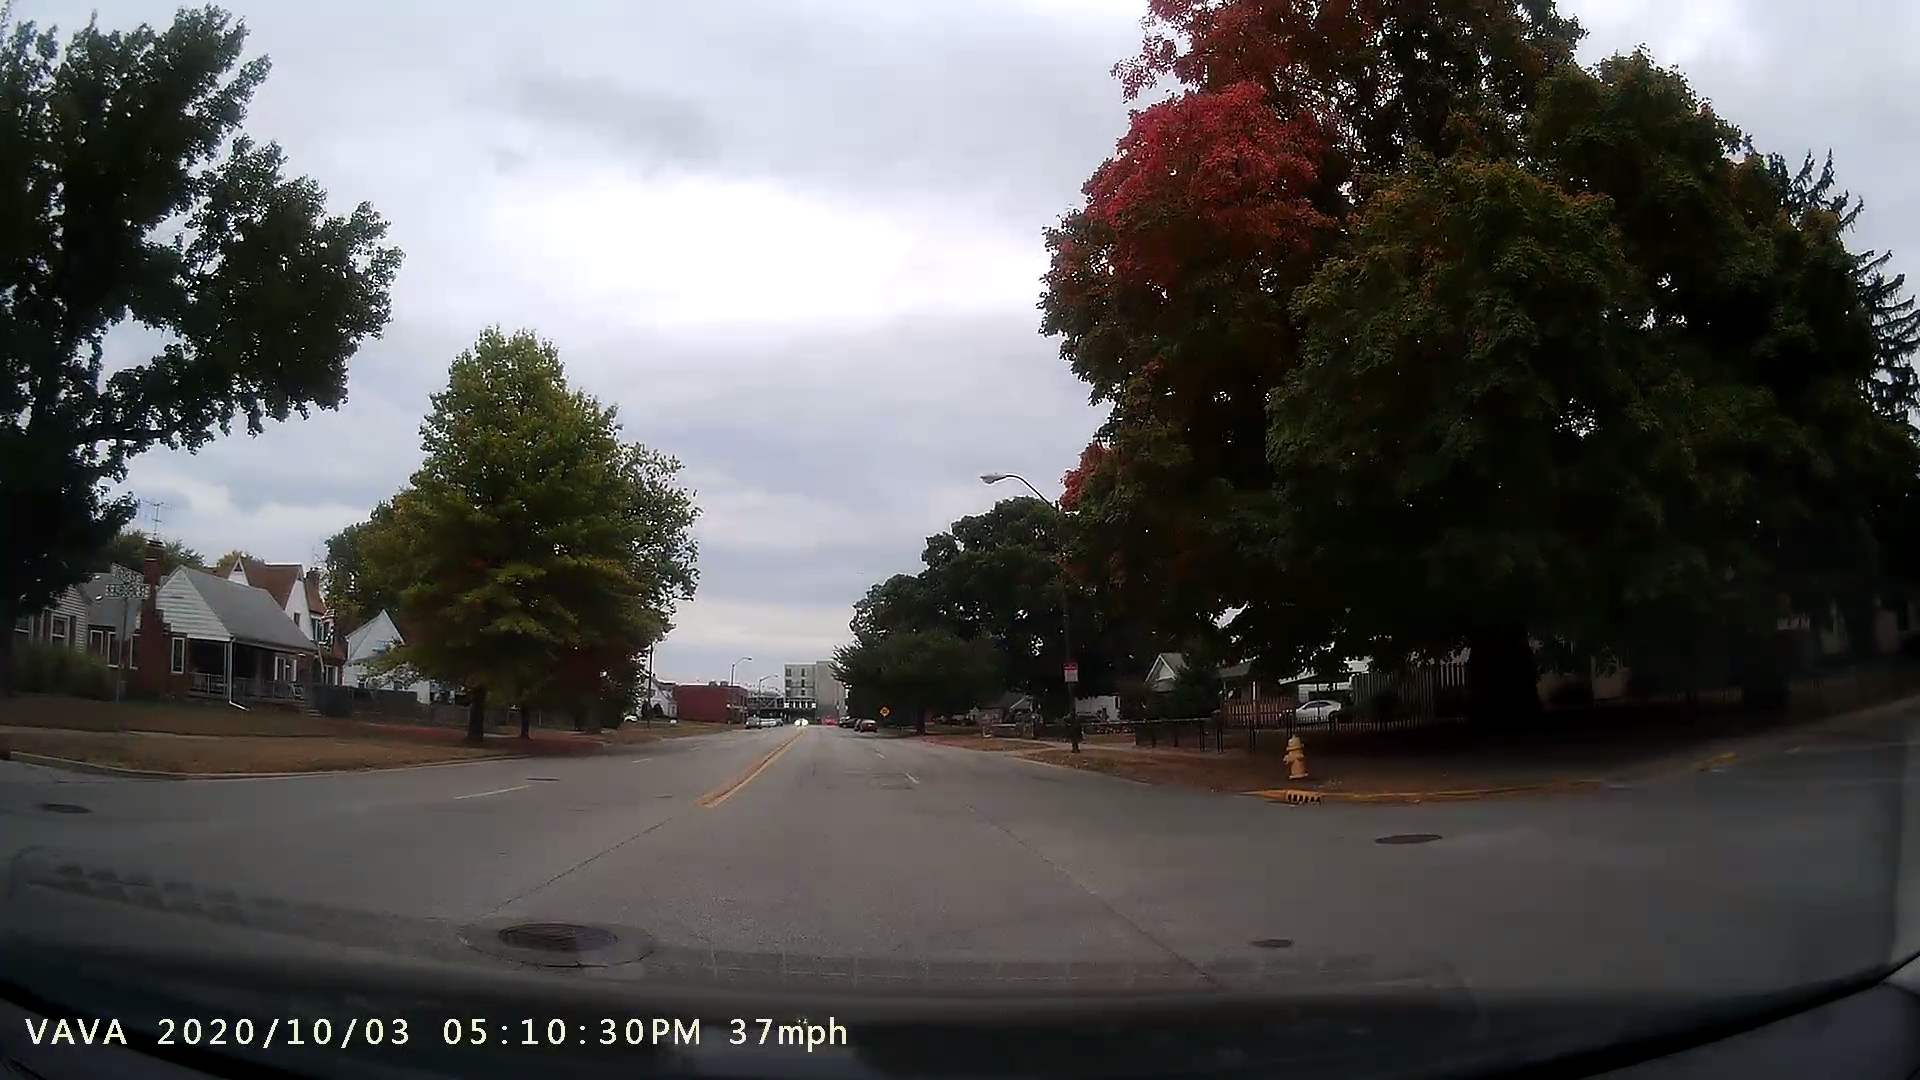fire_hydrant: (1269, 724, 1324, 789)
